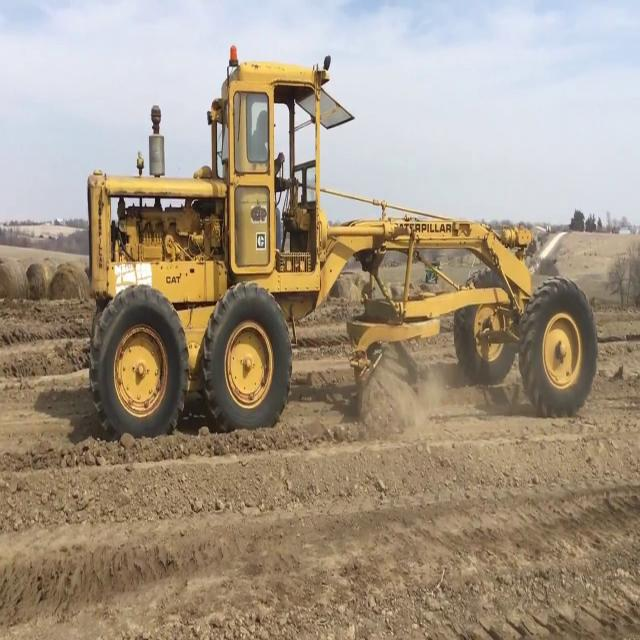buldozerpayloadergrader: (87, 66, 598, 428)
